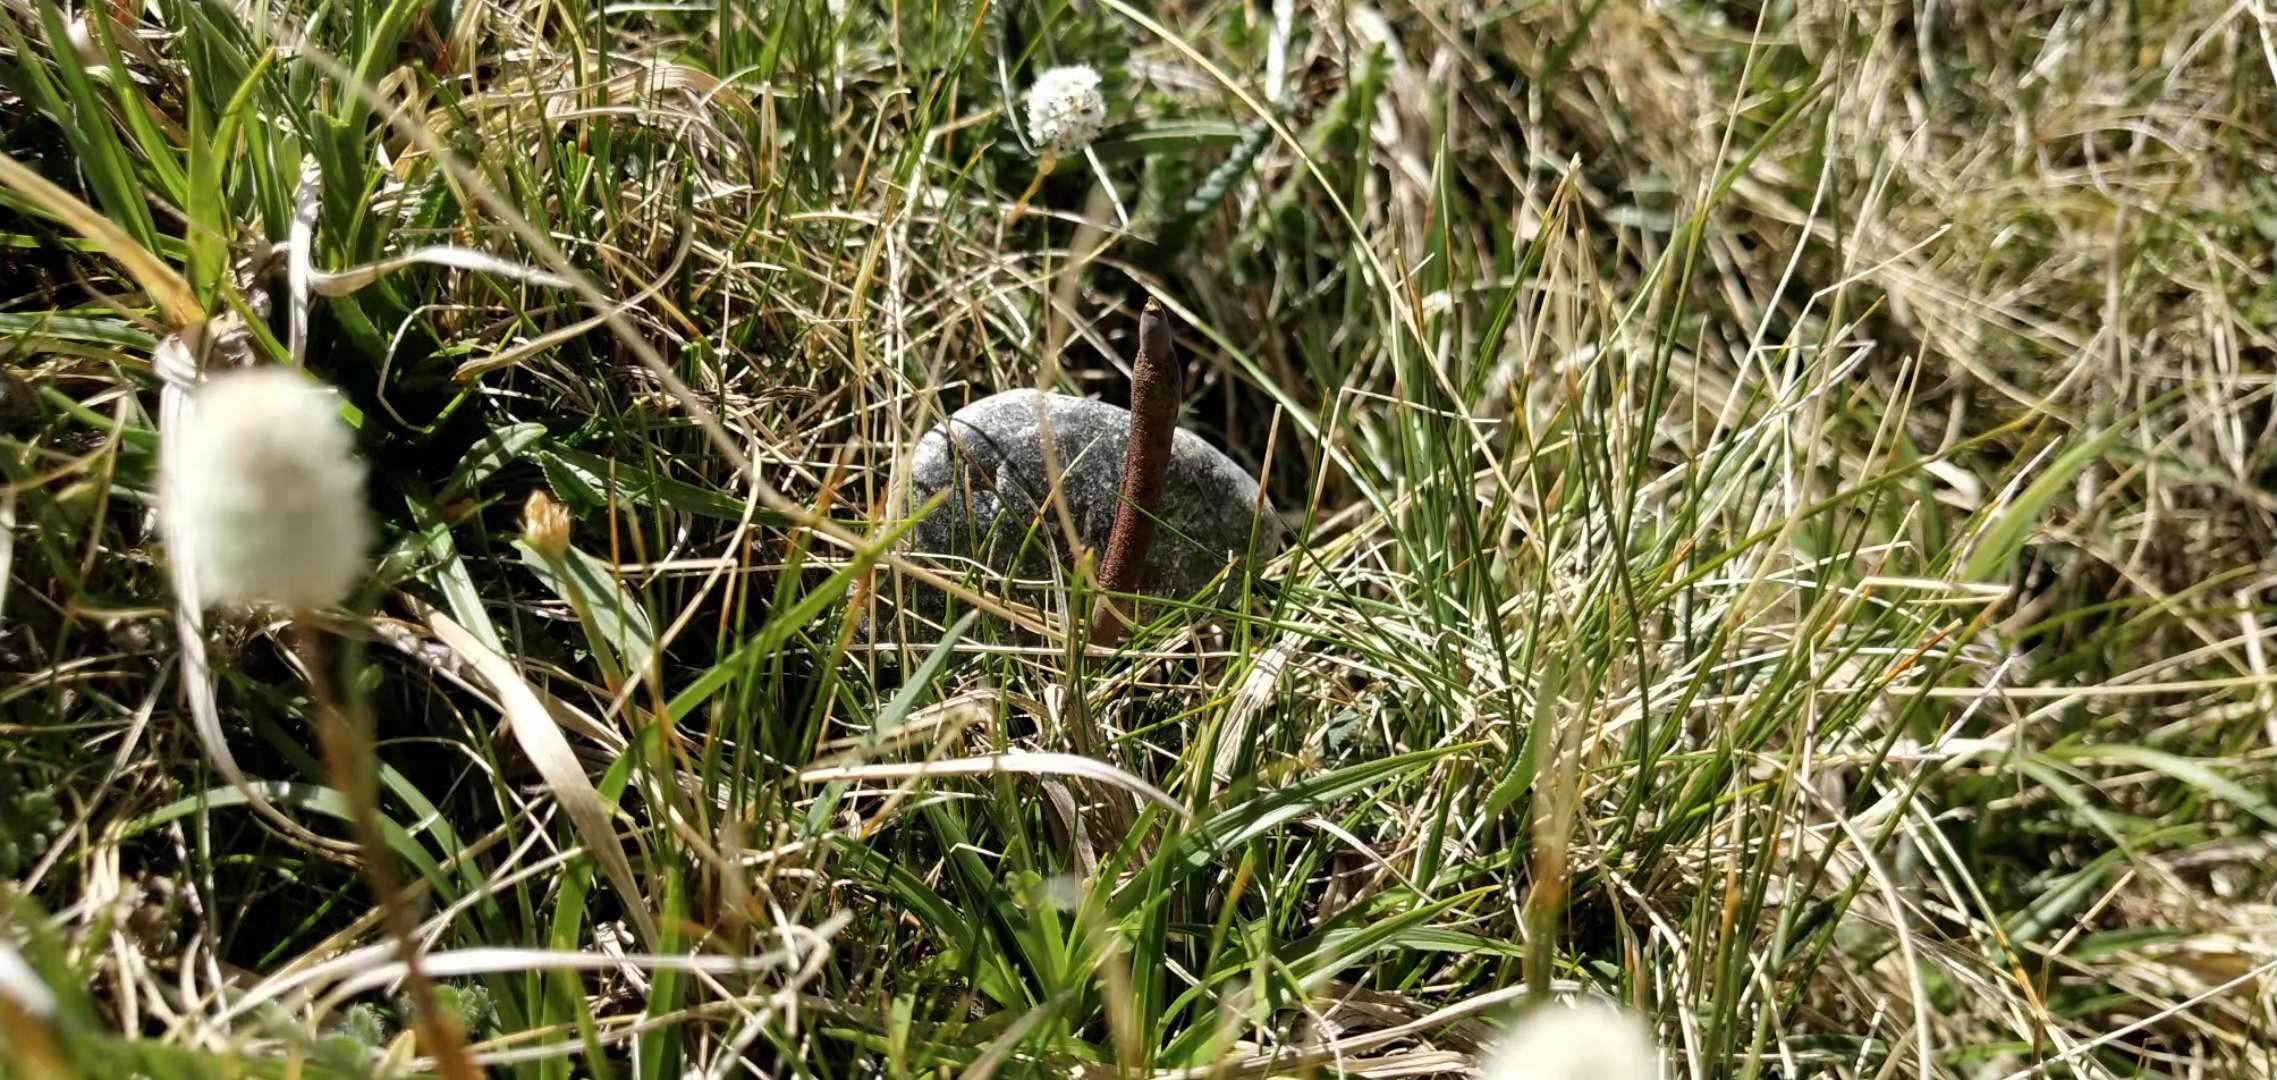w: (1088, 295, 1184, 655)
